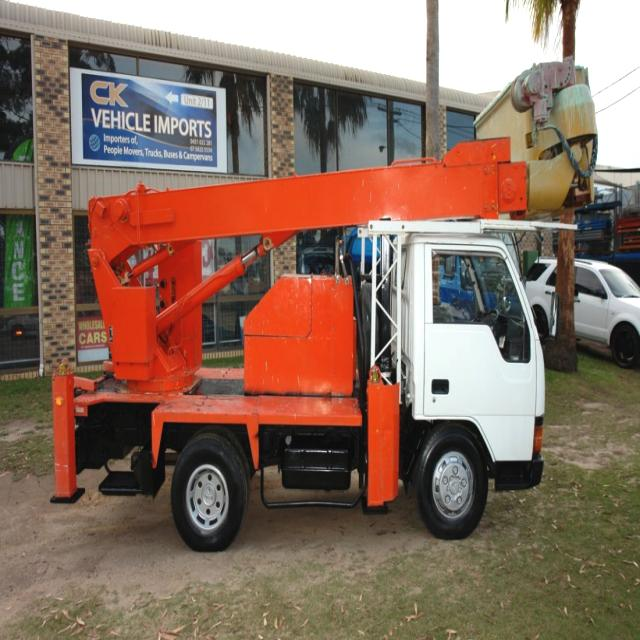truck: (49, 138, 546, 554)
